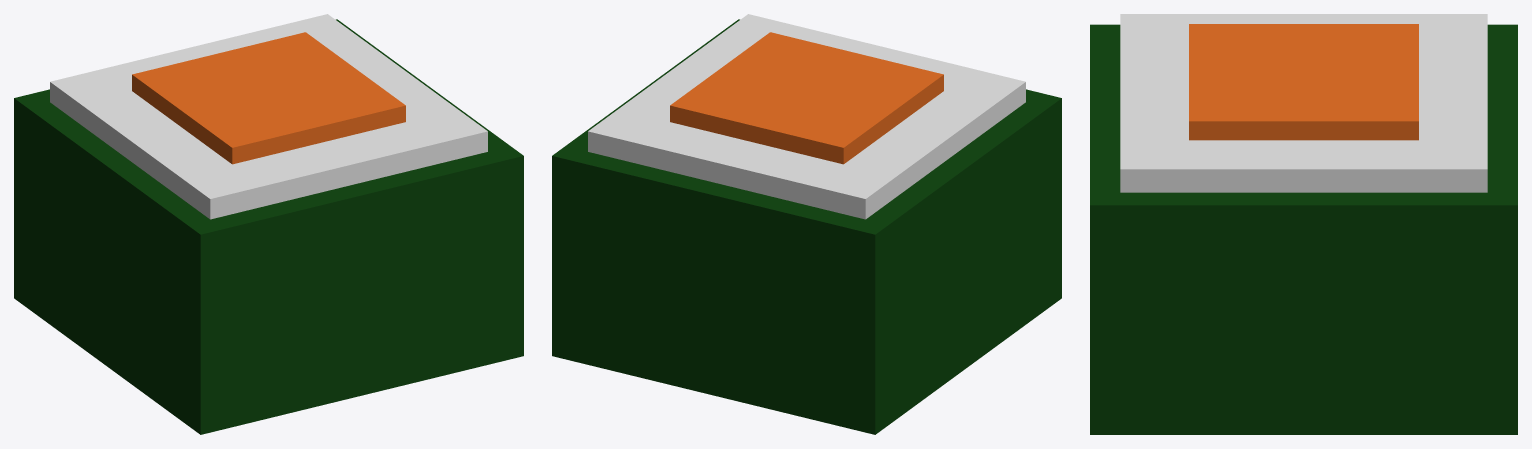
The model's file is lowpolysushi.fbx.
The picture shows the model from 3 angles, left to right: view 1: azimuth 30°, elevation 25°; view 2: azimuth 150°, elevation 25°; view 3: azimuth 270°, elevation 25°; orthographic projection. The views are drawn at different scales.
Parts seen in each view (by area): view 1: Cube, rice, salmon; view 2: Cube, rice, salmon; view 3: Cube, rice, salmon.
Part boxes in pixels (box(x1,y1,x2,y2)): Cube: box(14, 19, 523, 434); rice: box(50, 14, 487, 219); salmon: box(132, 32, 405, 164); Cube: box(552, 19, 1061, 434); rice: box(588, 14, 1025, 219); salmon: box(670, 32, 943, 164); Cube: box(1090, 24, 1517, 434); rice: box(1120, 14, 1487, 192); salmon: box(1189, 24, 1418, 140).
Bounding box in the file's own units: 200 × 140 × 200.
